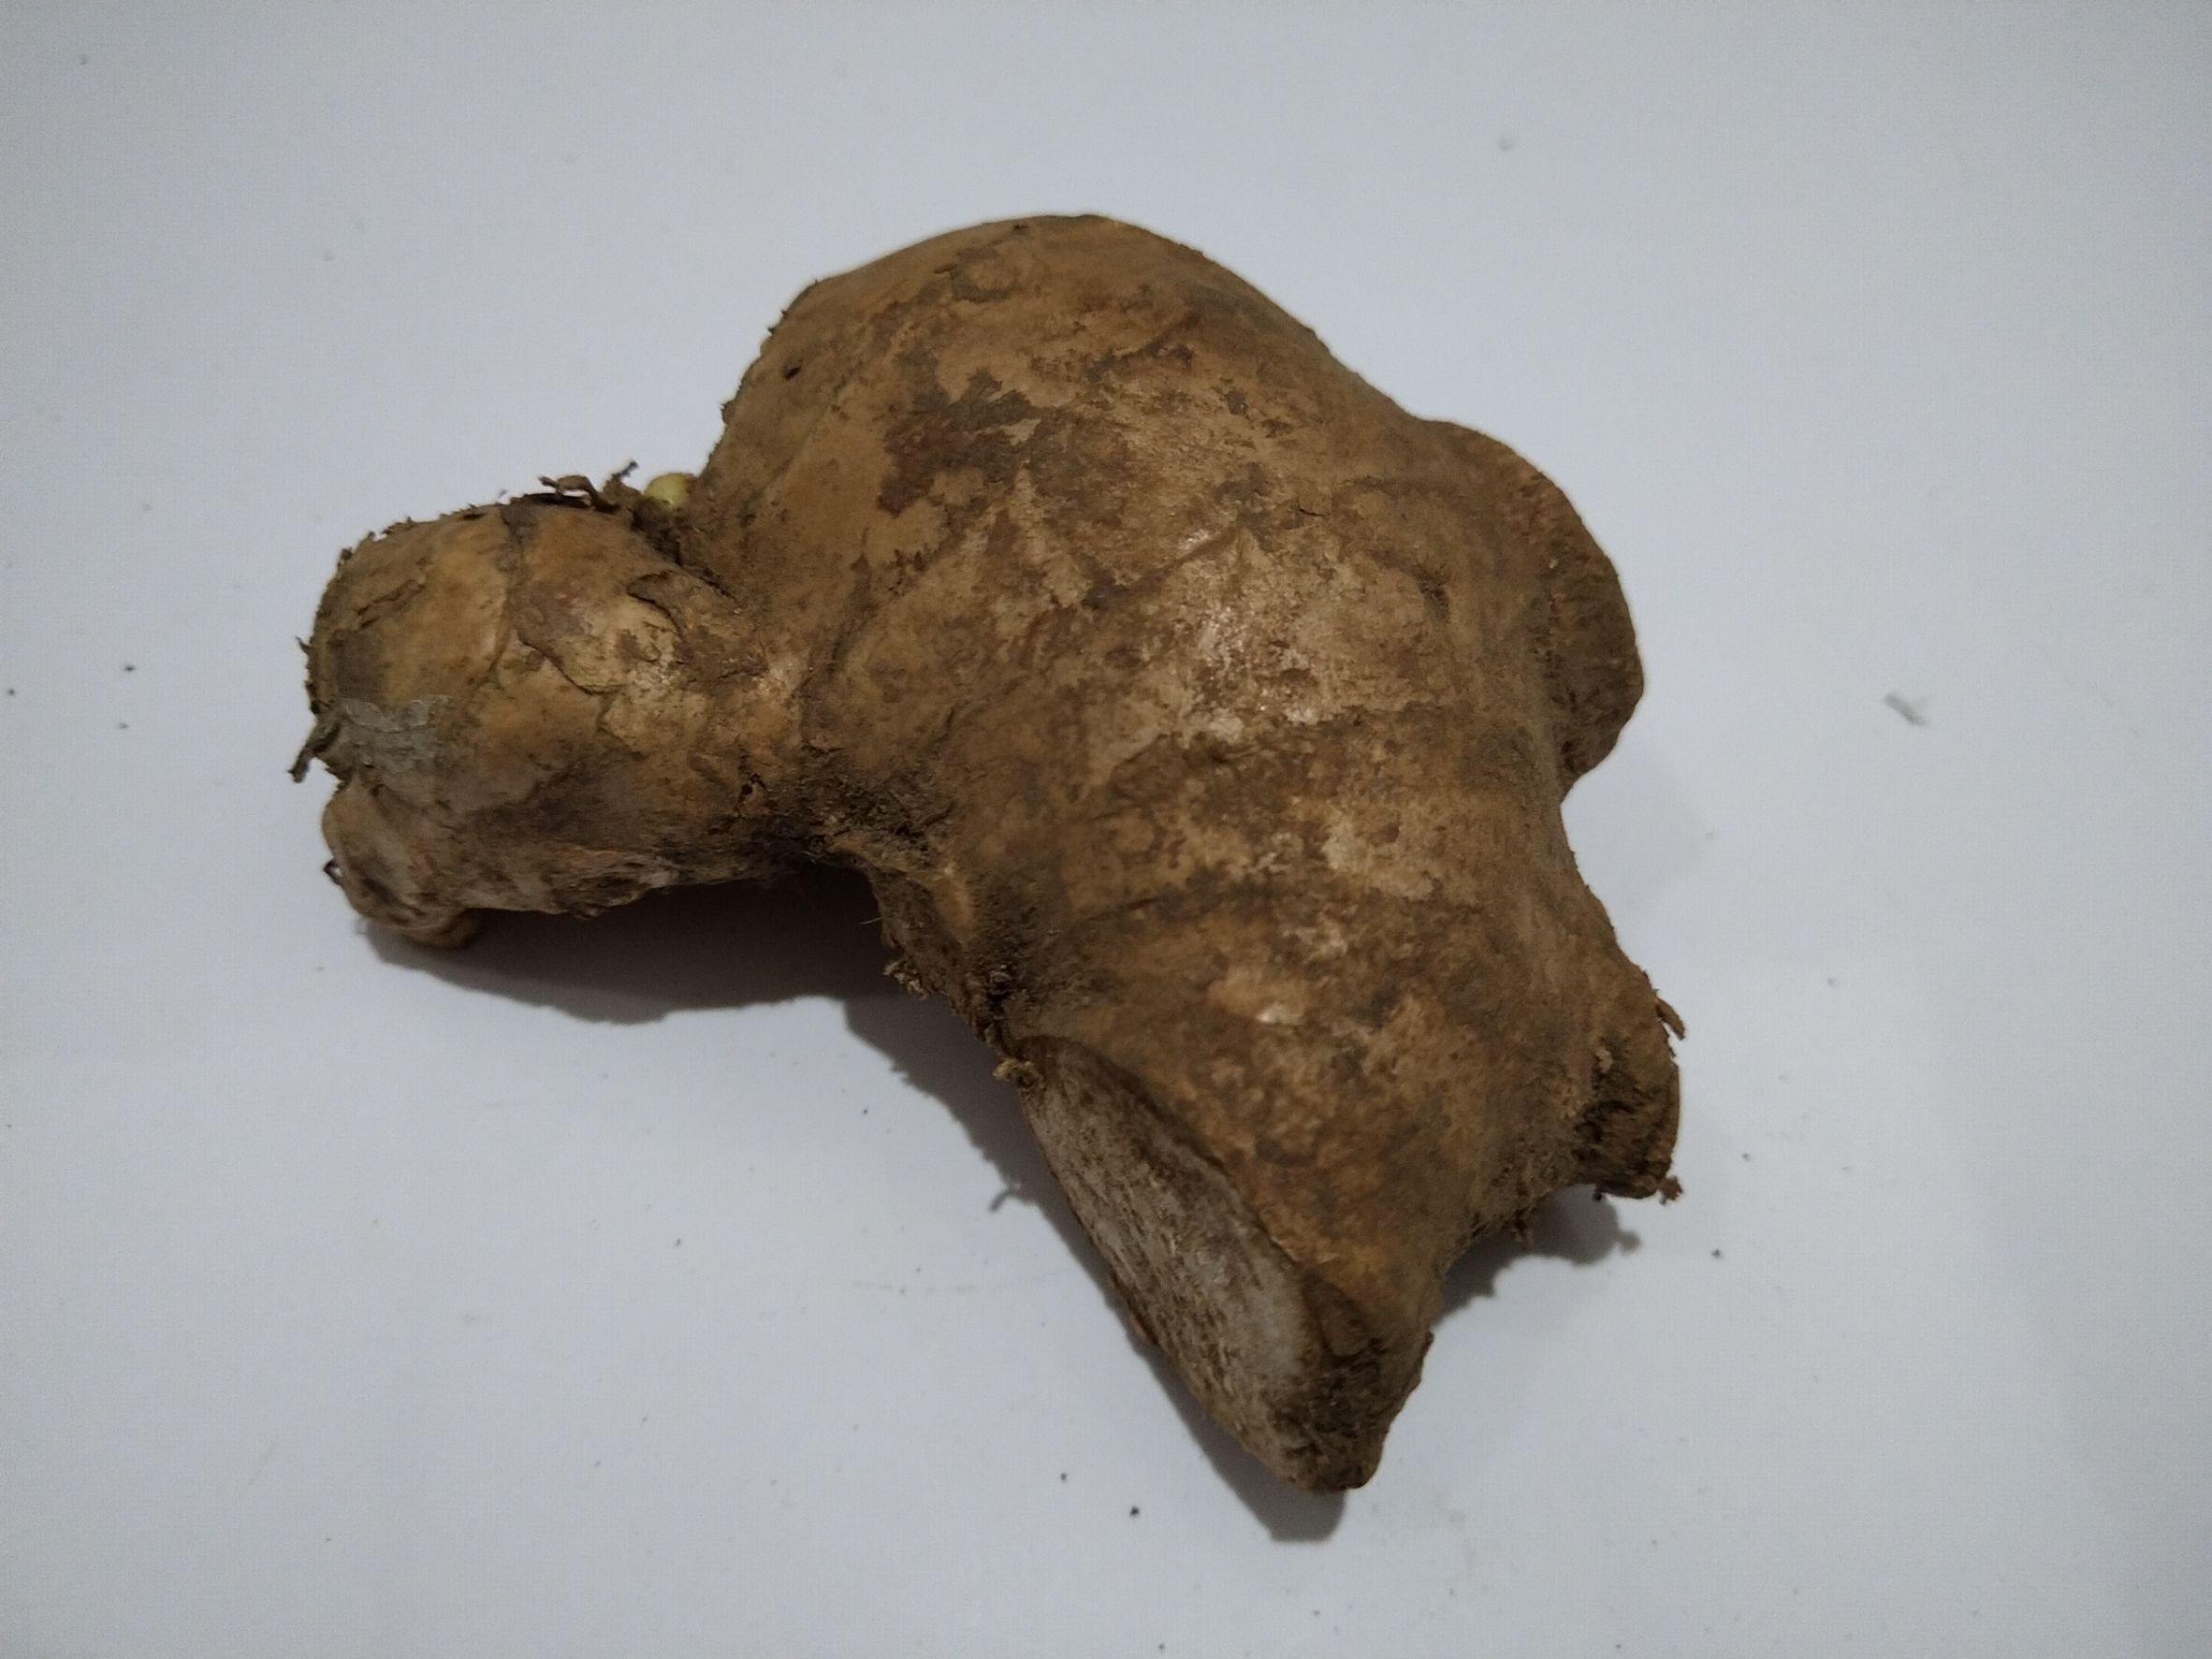Jahe: (298, 207, 1702, 1547)
